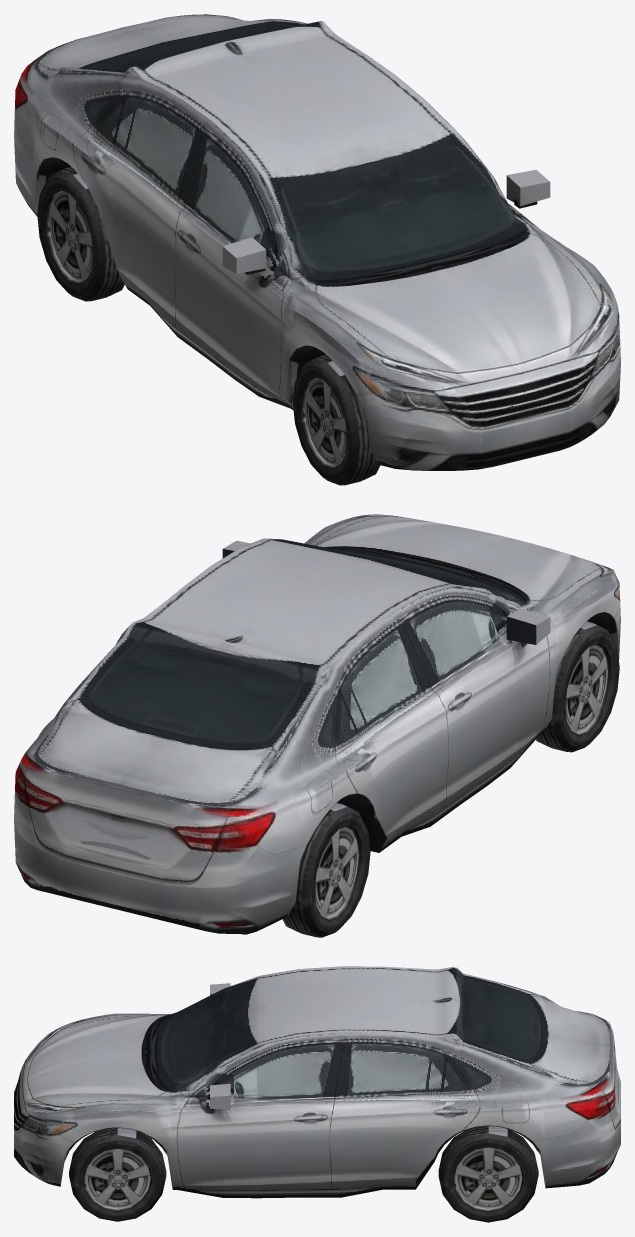
Rendered from sedan2.glb.
3 views of the same model, one above another, from view 1: azimuth 30°, elevation 25°; view 2: azimuth 150°, elevation 25°; view 3: azimuth 270°, elevation 25° (orthographic). The views are drawn at different scales.
Visible parts, largest first — view 1: body, wheel-front-right, wheel-back-right; view 2: body, wheel-back-right, wheel-front-right; view 3: body, wheel-back-left, wheel-front-left.
Boxes of the visible parts, left/top/right/bottom form: body: left=14, top=14, right=620, bottom=470; wheel-front-right: left=292, top=354, right=380, bottom=485; wheel-back-right: left=37, top=167, right=124, bottom=301; body: left=14, top=514, right=620, bottom=934; wheel-back-right: left=282, top=803, right=370, bottom=937; wheel-front-right: left=536, top=621, right=619, bottom=752; body: left=14, top=966, right=620, bottom=1198; wheel-back-left: left=438, top=1126, right=538, bottom=1222; wheel-front-left: left=69, top=1127, right=166, bottom=1221.
Bounding box in the file's own units: 2.11 × 1.57 × 4.82.
1 material, 1 textured.
